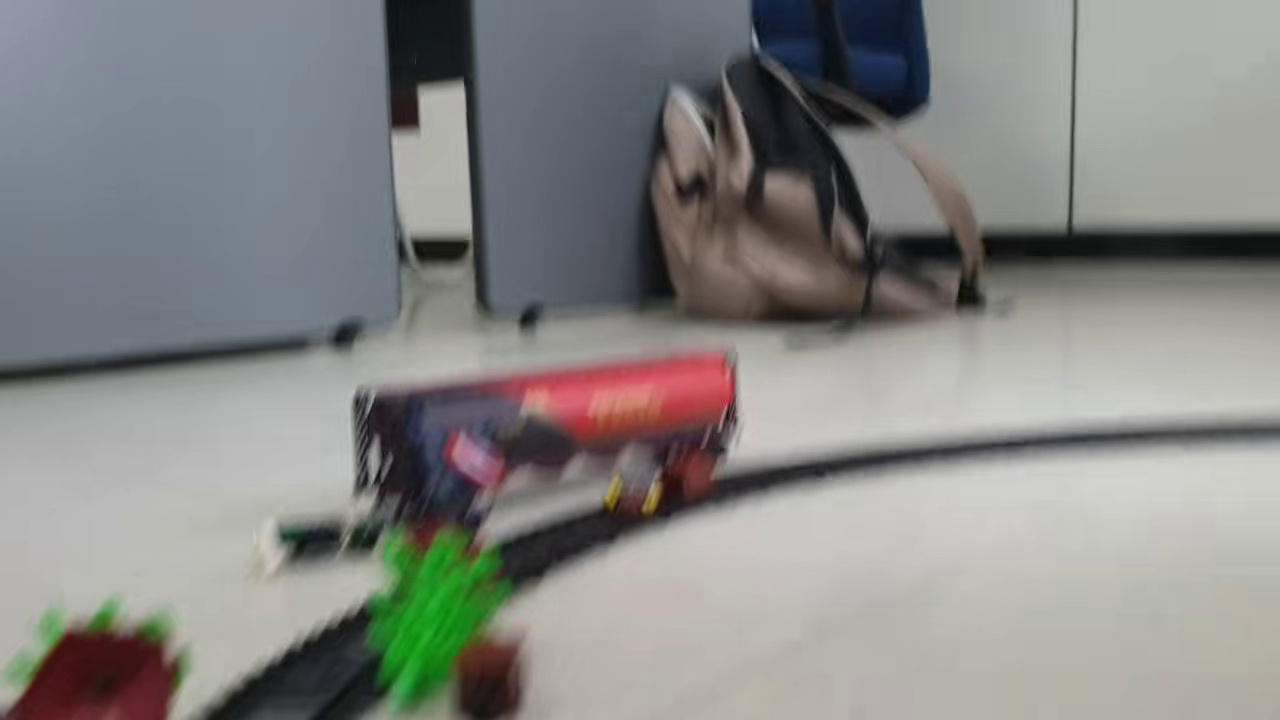box: (449, 634, 529, 720), (658, 446, 713, 505)
people: (401, 399, 511, 534), (257, 516, 401, 575), (599, 447, 670, 524)
tree: (365, 522, 518, 708), (14, 596, 192, 720)
